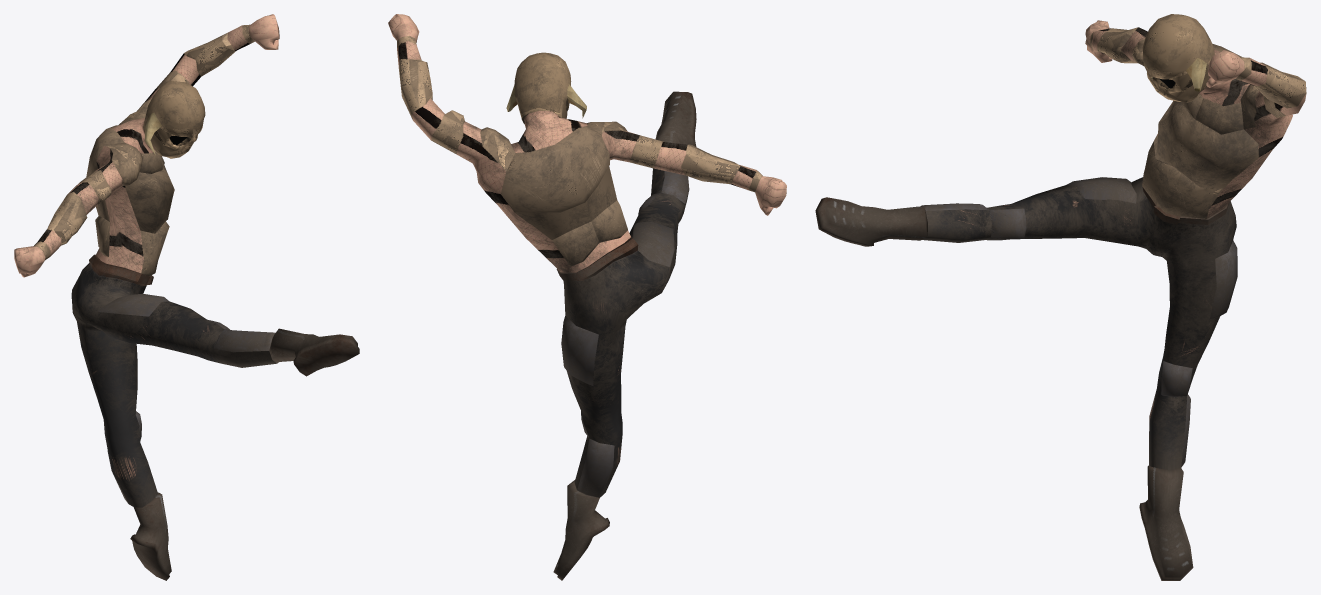
The model's file is Anim_ataque_f3_npc1.0026.obj.
The picture shows the model from 3 angles, left to right: view 1: azimuth 30°, elevation 25°; view 2: azimuth 150°, elevation 25°; view 3: azimuth 270°, elevation 25°; orthographic projection. The views are drawn at different scales.
Parts seen in each view (by area): view 1: NPC2; view 2: NPC2; view 3: NPC2.
Boxes of the visible parts, x1,y1,x2,y2 form: NPC2: (14, 14, 359, 580); NPC2: (388, 14, 786, 580); NPC2: (815, 14, 1306, 580).
Bounding box in the file's own units: 6.7 × 10.37 × 7.64.
